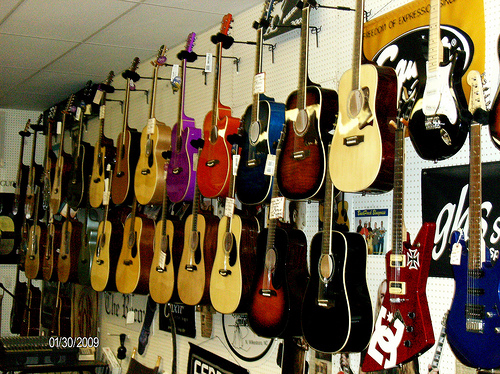guitar: (325, 1, 399, 196), (306, 182, 372, 357), (277, 4, 332, 203), (235, 1, 284, 208), (244, 199, 316, 338), (193, 12, 237, 200), (162, 29, 205, 207), (206, 203, 258, 314), (134, 42, 166, 205), (108, 53, 140, 205), (176, 197, 219, 310), (146, 204, 185, 302), (85, 66, 111, 210), (116, 209, 155, 294), (87, 206, 120, 293)
